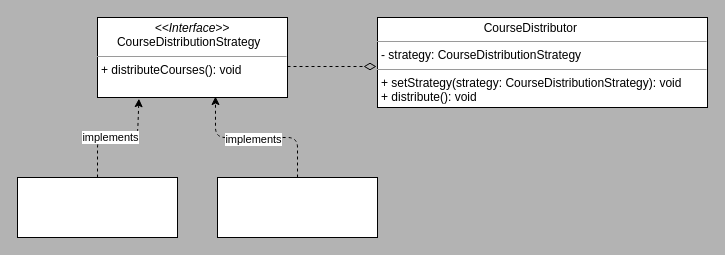
Image size: 725x255. Some labels were removed from this diagram. The centre of each missing label's shape, as x and y in pixels:
"AvailabilityBasedDistribution + distributeCourses(): void" belongs at pixel 97 207.
"PriorityBasedDistribution + distributeCourses(): void" belongs at pixel 297 207.
